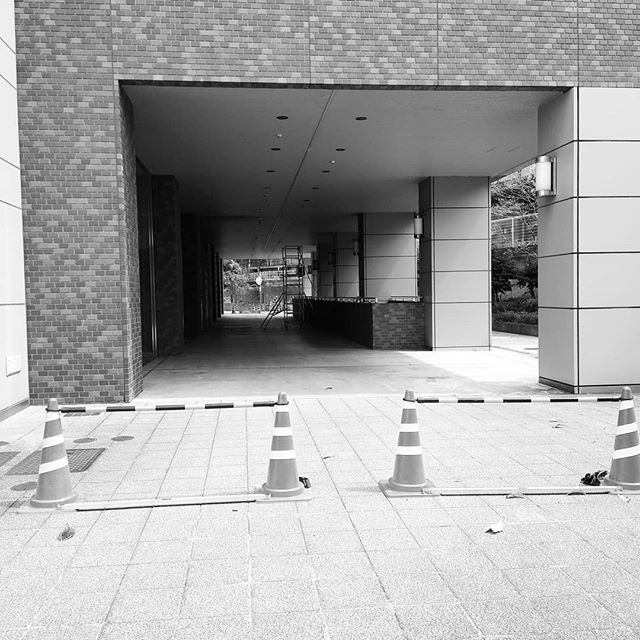collumn: (534, 90, 640, 387), (409, 165, 506, 358), (359, 199, 419, 307)
traffic cone: (255, 394, 316, 508), (22, 397, 83, 511), (378, 381, 439, 495), (600, 386, 640, 493)
